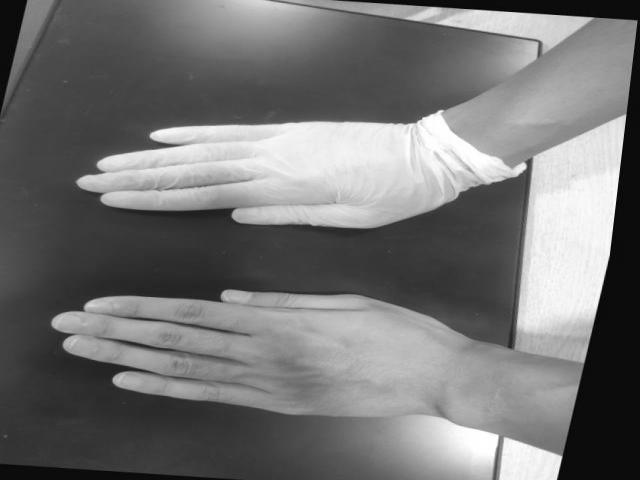gloved: (74, 120, 440, 230)
not-gloved: (54, 290, 428, 418)
